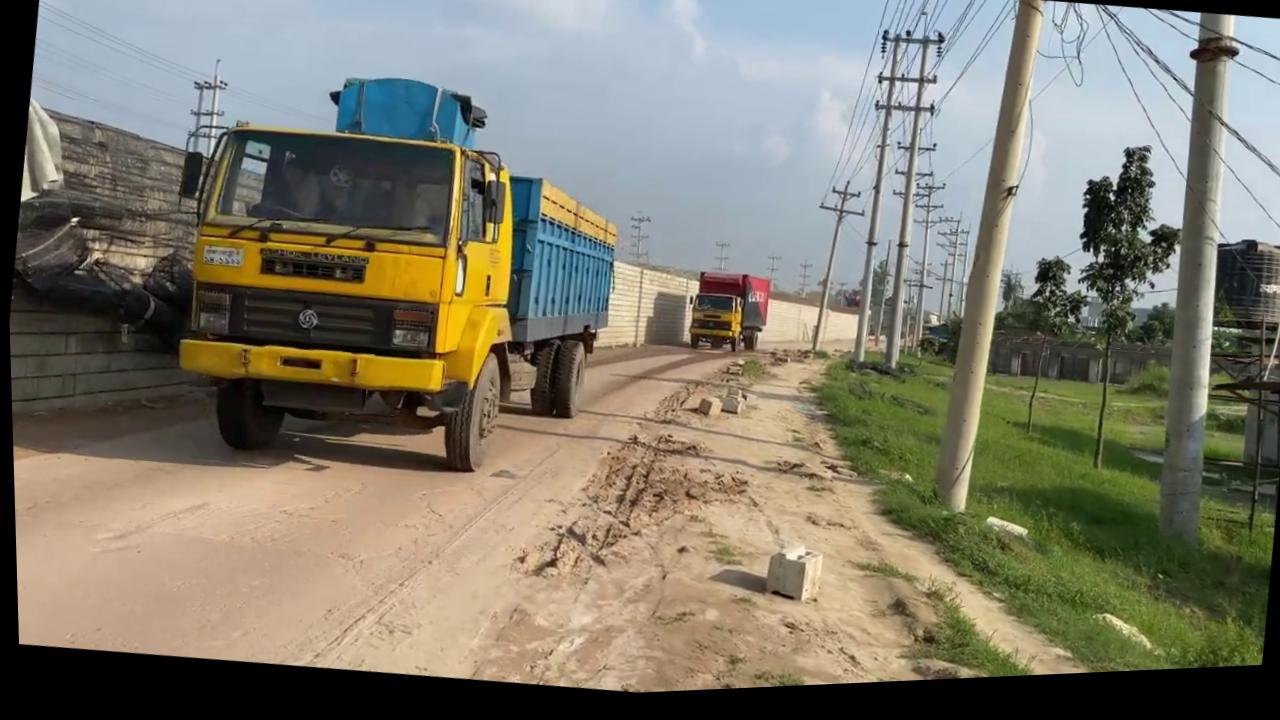Muddy road: (6, 237, 1217, 720)
Obstacle: (758, 547, 822, 611)
Pole: (915, 3, 1057, 528), (1130, 22, 1259, 567), (865, 34, 951, 380), (840, 39, 909, 372)
Traffic-sign: (1045, 145, 1195, 488), (1008, 259, 1092, 450)
Tree: (149, 47, 640, 502), (681, 272, 771, 364)
